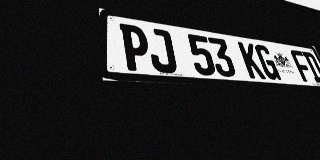3: (207, 37, 237, 77)
5: (187, 34, 217, 76)
D: (301, 51, 320, 83)
F: (289, 49, 316, 82)
G: (253, 44, 282, 80)
J: (146, 27, 178, 74)
K: (237, 41, 266, 79)
P: (119, 23, 152, 72)
